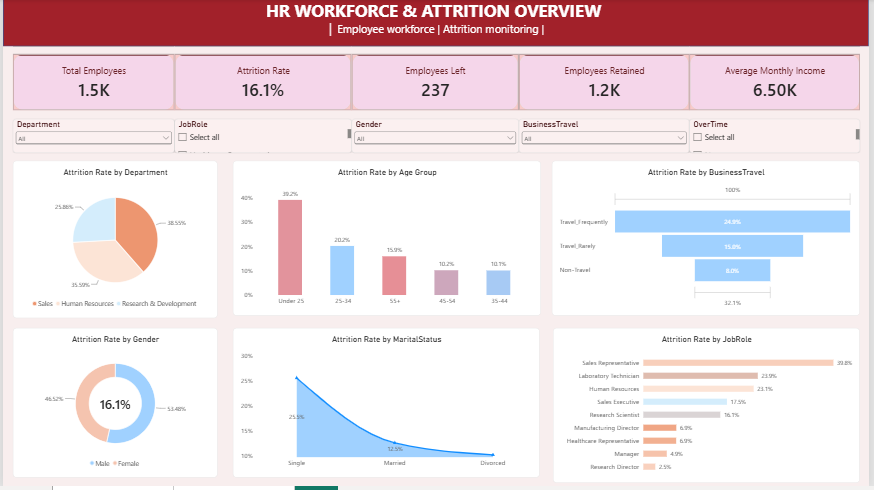

This screenshot's page, from the dashboard's own definition file:
{"tool":"powerbi","page":{"name":"Dashboard_1","canvas":[1920,1080],"ordinal":0},"visuals":[{"type":"shape","box":[0,0,1919.3,104.9],"z":0},{"type":"cardVisual","fields":{"Data":["Measure Table.Attrition Rate"]},"box":[380.5,104.9,392.6,141.4],"z":1000},{"type":"cardVisual","fields":{"Data":["Measure Table.Employees Left"]},"box":[773.1,104.9,370.7,141.4],"z":2000},{"type":"cardVisual","fields":{"Data":["Measure Table.Employees Retained"]},"box":[1143.8,104.9,378,141.4],"z":3000},{"type":"cardVisual","fields":{"Data":["Measure Table.Average Monthly Income"]},"box":[1521.8,104.9,378,141.4],"z":4000},{"type":"cardVisual","fields":{"Data":["Measure Table.Total Employees"]},"box":[21.9,104.9,358.5,141.4],"z":5000},{"type":"pieChart","fields":{"Category":["Employee_Data.Department"],"Y":["Measure Table.Attrition Rate"]},"box":[21.9,358.5,453.6,348.7],"z":6000},{"type":"clusteredBarChart","fields":{"Category":["Employee_Data.JobRole"],"Y":["Measure Table.Attrition Rate"]},"box":[1219.4,729.2,680.4,343.9],"z":7000},{"type":"clusteredColumnChart","fields":{"Category":["Employee_Data.Age Group"],"Y":["Measure Table.Attrition Rate"]},"box":[509.7,358.5,682.9,343.9],"z":8000},{"type":"donutChart","fields":{"Category":["Employee_Data.Gender"],"Y":["Measure Table.Attrition Rate"]},"box":[21.9,729.2,453.6,331.7],"z":9000},{"type":"funnel","fields":{"Category":["Employee_Data.BusinessTravel"],"Y":["Measure Table.Attrition Rate"]},"box":[1217,358.5,682.9,343.9],"z":10000},{"type":"stackedAreaChart","fields":{"Category":["Employee_Data.MaritalStatus"],"Y":["Measure Table.Attrition Rate"]},"box":[509.7,729.2,680.4,331.7],"z":11000},{"type":"slicer","fields":{"Values":["Employee_Data.Department"]},"box":[21.9,265.8,358.5,75.6],"z":12000},{"type":"slicer","fields":{"Values":["Employee_Data.JobRole"]},"box":[380.5,265.8,392.6,75.6],"z":13000},{"type":"slicer","fields":{"Values":["Employee_Data.Gender"]},"box":[773.1,265.8,370.7,75.6],"z":14000},{"type":"slicer","title":"Business Travel","fields":{"Values":["Employee_Data.BusinessTravel"]},"box":[1143.8,265.8,378,75.6],"z":15000},{"type":"slicer","fields":{"Values":["Employee_Data.OverTime"]},"box":[1521.8,265.8,378,75.6],"z":16000},{"type":"textbox","box":[0,0,1919.3,85.4],"z":17000}]}

Visuals, with their boxes in screenshot pixels (x1, y1, x2, y2), scaled from the page's 1920x1080 canvas onto the 874x490 screenshot:
shape: <box>0,0,873,48</box>
cardVisual - Measure Table.Attrition Rate: <box>173,48,352,112</box>
cardVisual - Measure Table.Employees Left: <box>352,48,521,112</box>
cardVisual - Measure Table.Employees Retained: <box>521,48,693,112</box>
cardVisual - Measure Table.Average Monthly Income: <box>693,48,865,112</box>
cardVisual - Measure Table.Total Employees: <box>10,48,173,112</box>
pieChart - Employee_Data.Department x Measure Table.Attrition Rate: <box>10,163,216,321</box>
clusteredBarChart - Employee_Data.JobRole x Measure Table.Attrition Rate: <box>555,331,865,487</box>
clusteredColumnChart - Employee_Data.Age Group x Measure Table.Attrition Rate: <box>232,163,543,319</box>
donutChart - Employee_Data.Gender x Measure Table.Attrition Rate: <box>10,331,216,481</box>
funnel - Employee_Data.BusinessTravel x Measure Table.Attrition Rate: <box>554,163,865,319</box>
stackedAreaChart - Employee_Data.MaritalStatus x Measure Table.Attrition Rate: <box>232,331,542,481</box>
slicer - Employee_Data.Department: <box>10,121,173,155</box>
slicer - Employee_Data.JobRole: <box>173,121,352,155</box>
slicer - Employee_Data.Gender: <box>352,121,521,155</box>
"Business Travel" slicer: <box>521,121,693,155</box>
slicer - Employee_Data.OverTime: <box>693,121,865,155</box>
textbox: <box>0,0,873,39</box>
